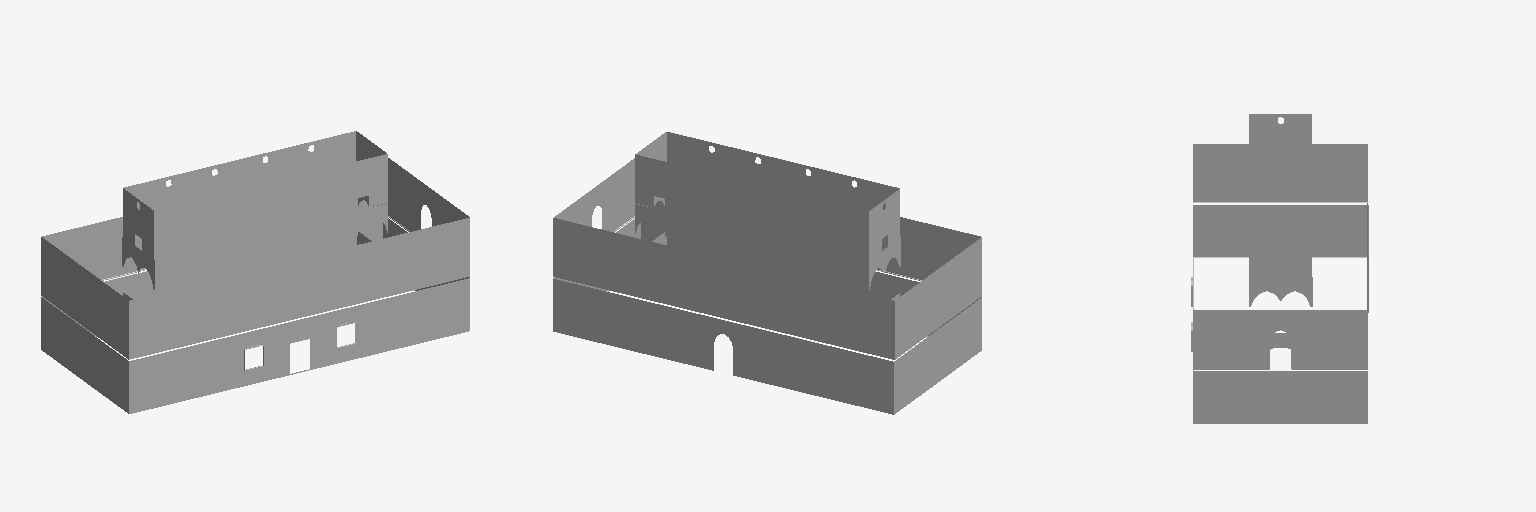
File: sponza_bricks_scaled.obj
3 views of the same model, side by side, from view 1: azimuth 30°, elevation 25°; view 2: azimuth 150°, elevation 25°; view 3: azimuth 270°, elevation 25° (orthographic).
Visible parts, largest first — view 1: sponza.001; view 2: sponza.001; view 3: sponza.001.
Part boxes in pixels (left/top/right/bottom): sponza.001: left=41, top=131, right=469, bottom=413; sponza.001: left=553, top=132, right=981, bottom=414; sponza.001: left=1191, top=114, right=1368, bottom=423.
Size of the model in its own units: 27.34 by 13 by 12.28.